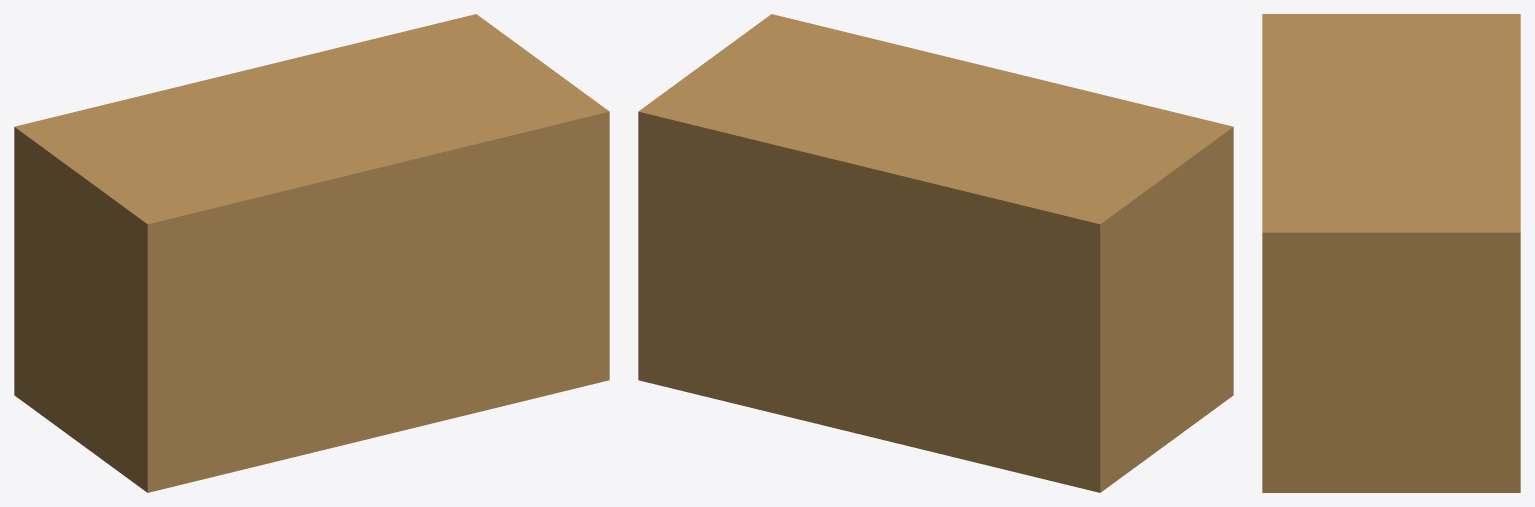
3 views of the same model, side by side, from view 1: azimuth 30°, elevation 25°; view 2: azimuth 150°, elevation 25°; view 3: azimuth 270°, elevation 25° (orthographic). The views are drawn at different scales.
Visible parts, largest first — view 1: RUN-034-S00-STUD-00-p3; view 2: RUN-034-S00-STUD-00-p3; view 3: RUN-034-S00-STUD-00-p3.
Boxes of the visible parts, box(x1,y1,x2,y2) form: RUN-034-S00-STUD-00-p3: box(14, 14, 609, 492); RUN-034-S00-STUD-00-p3: box(638, 14, 1233, 492); RUN-034-S00-STUD-00-p3: box(1262, 14, 1520, 492).
Size of the model in its own units: 0.09 by 0.05 by 0.045.
